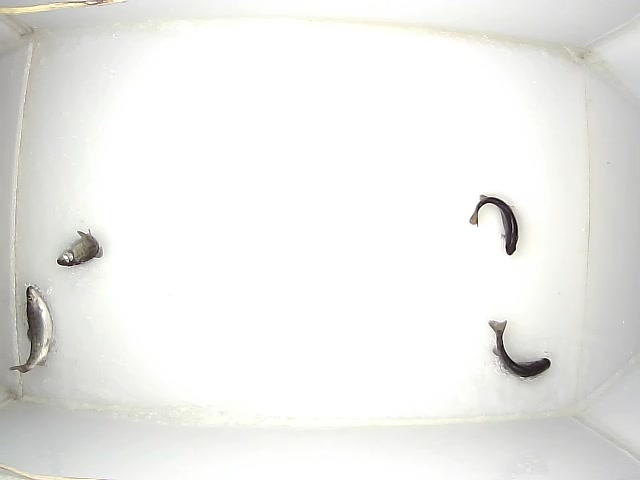fish: (9, 286, 53, 373), (488, 320, 551, 377), (469, 195, 518, 255), (57, 229, 103, 266)
